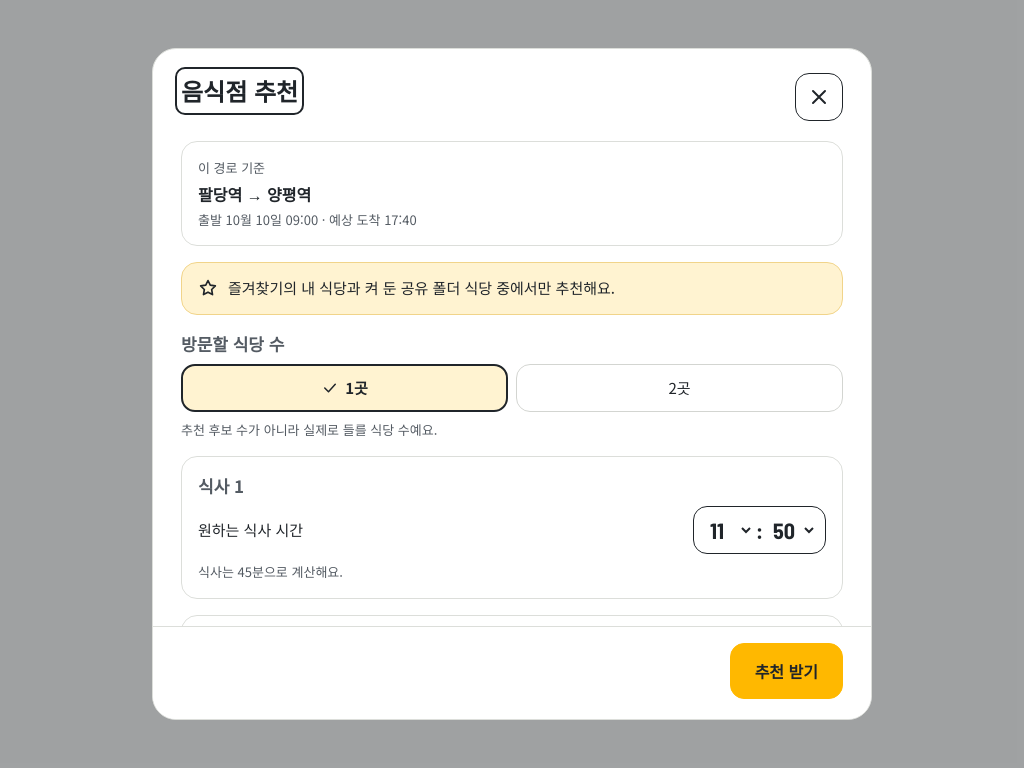
Test: restaurant recommendation with shared folders (SRC02, SRC02b, SRC03) › adds nothing and asks for a new recommendation when a chosen source changed (§7.4)
Click the button "추천 받기": (786, 671) [730,643,843,699]
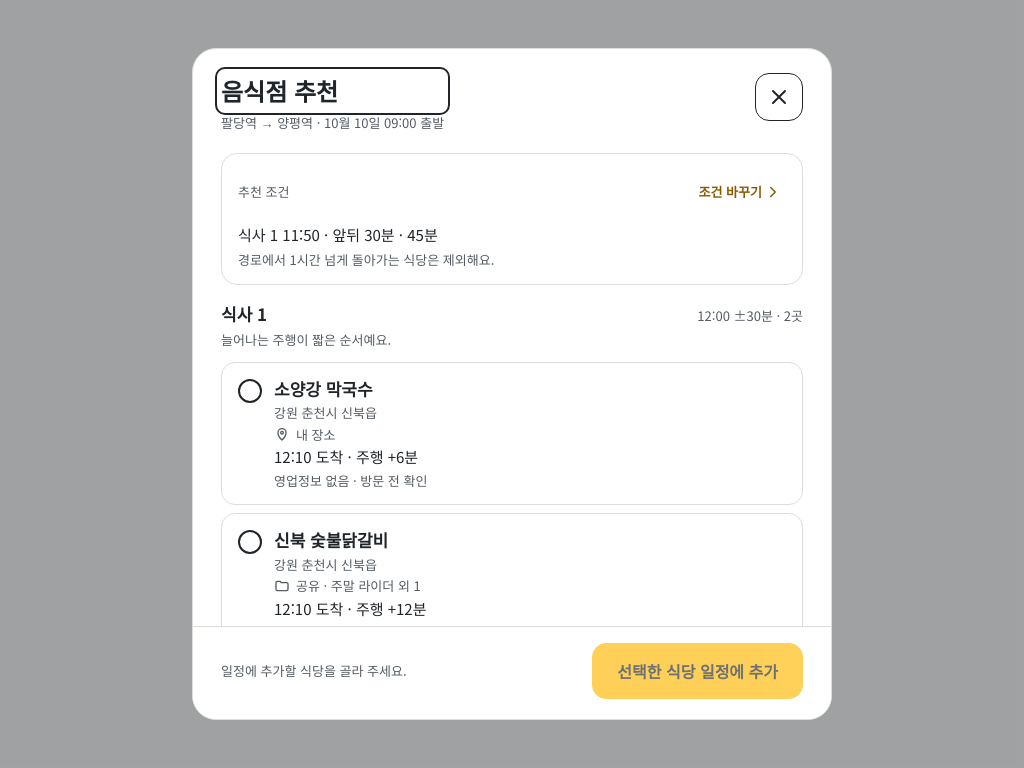
Click the button with aria-label "신북 숯불닭갈비, 강원 춘천시 신북읍, 공유 · 주말 라이더 외 1, 12시 10분 도착, 추가 주행 12분": (331, 540) [221,513,803,657]
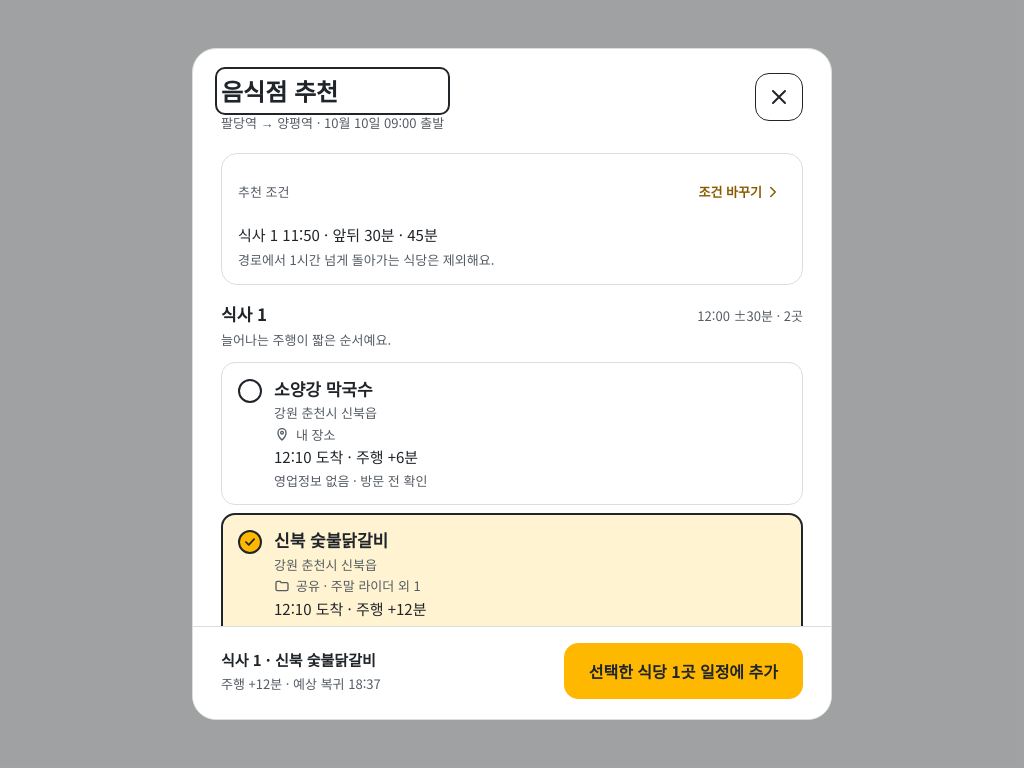
Click the button "선택한 식당 1곳 일정에 추가": (683, 671) [564,643,803,699]
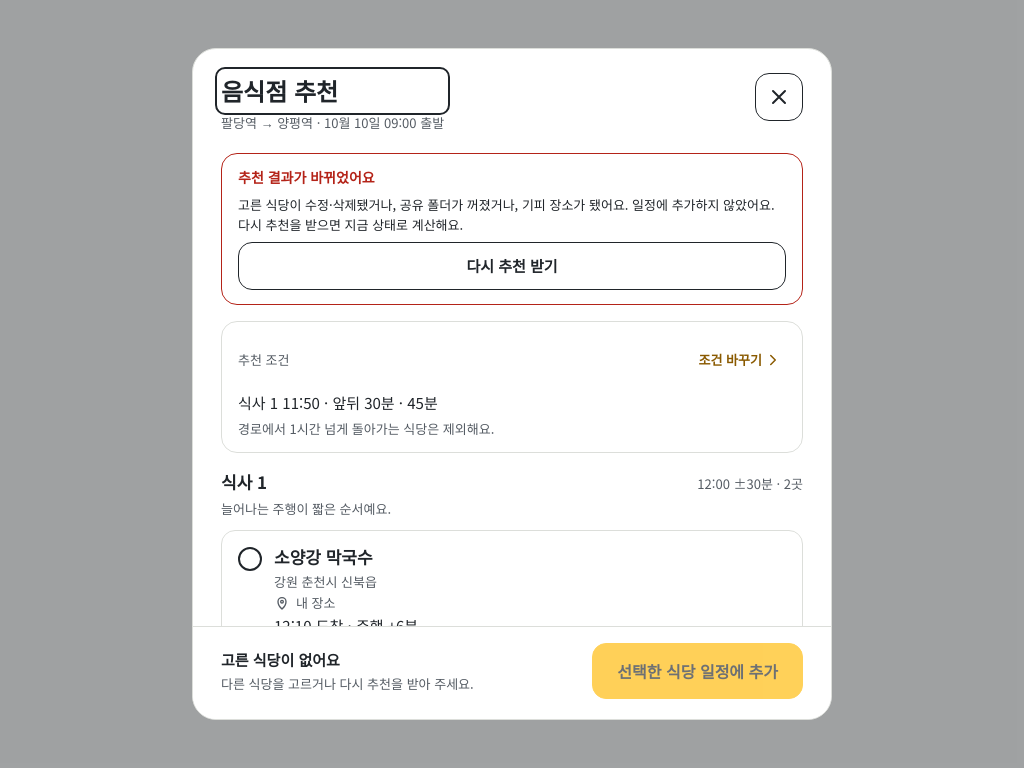
Check: the text "추천 결과가 바뀌었어요" is shown, box [238,166,375,186]
Check: the text "일정에 추가하지 않았어요." is shown, box [238,195,775,234]
